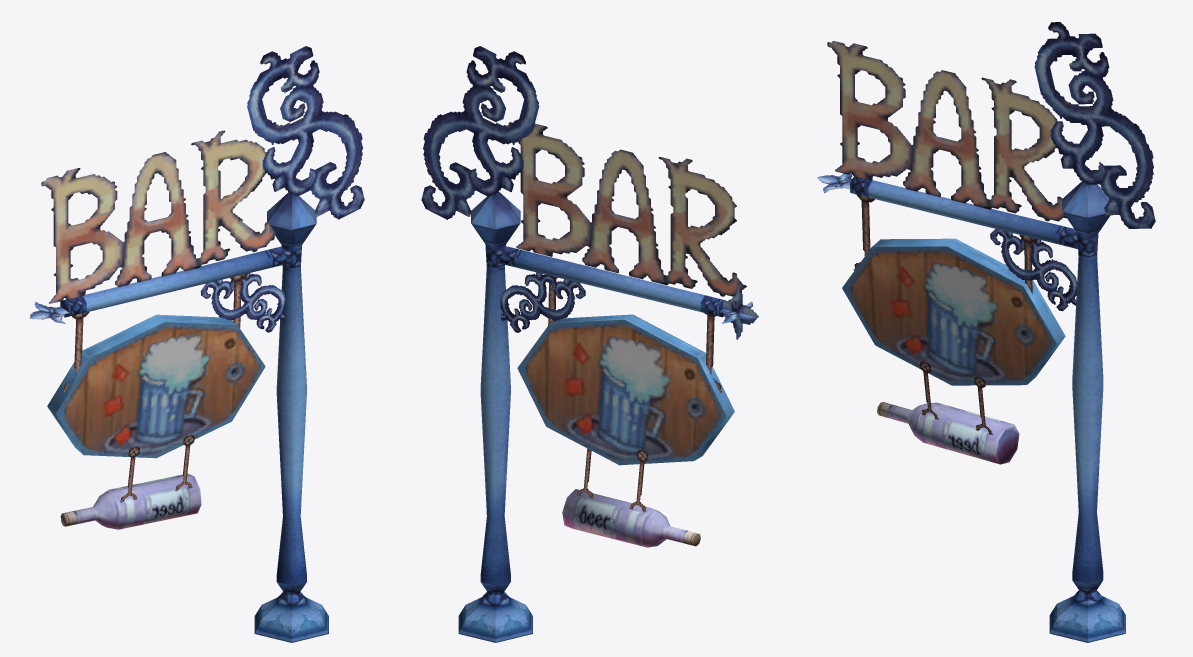
3 renders of one model, left to right at view 1: azimuth 30°, elevation 25°; view 2: azimuth 150°, elevation 25°; view 3: azimuth 330°, elevation 25°, orthographic. The views are drawn at different scales.
Visible parts, largest first — view 1: geom_node_0, geom_node_1; view 2: geom_node_0, geom_node_1; view 3: geom_node_0, geom_node_1.
Boxes of the visible parts, box(x1,y1,x2,y2) form: geom_node_0: box(29, 46, 364, 642); geom_node_1: box(47, 273, 265, 529); geom_node_0: box(421, 46, 758, 642); geom_node_1: box(517, 276, 734, 547); geom_node_0: box(817, 22, 1155, 642); geom_node_1: box(842, 194, 1065, 464).
Size of the model in its own units: 3.32 by 5.49 by 0.6842.
Materials: 3 (3 with a texture image).
